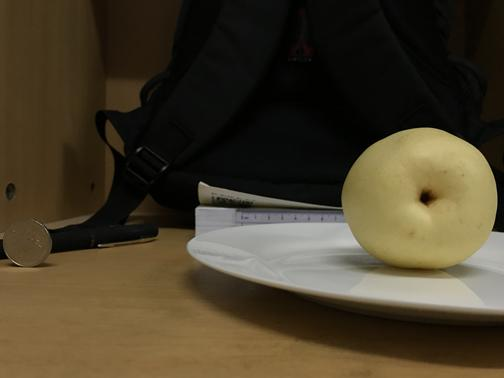coin: (1, 218, 51, 267)
pear: (338, 123, 498, 270)
